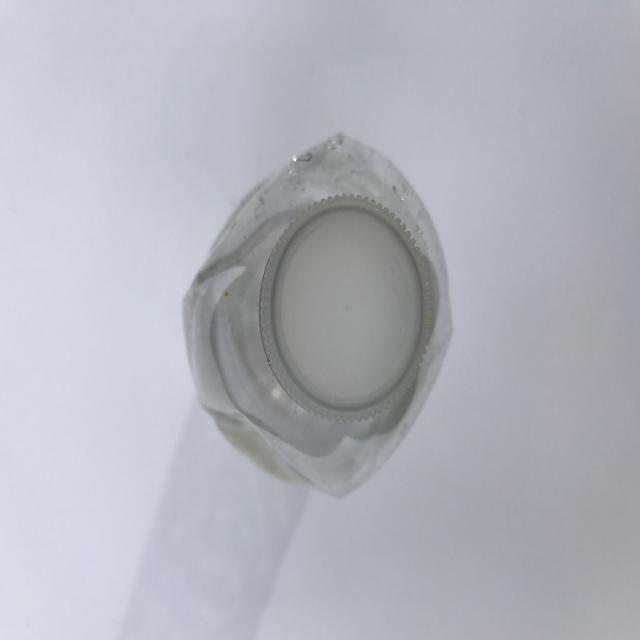plastic: (182, 131, 454, 499)
